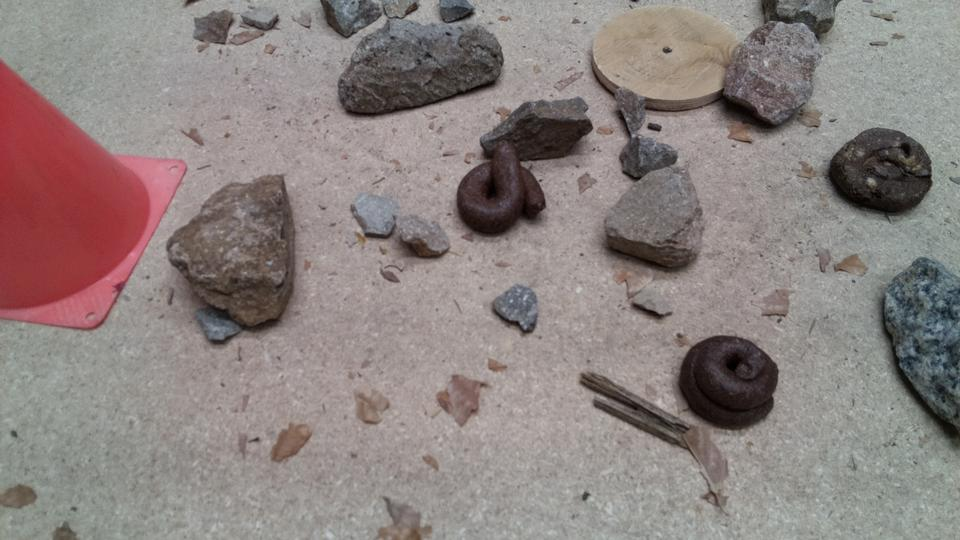poop: (677, 335, 783, 431), (829, 127, 933, 216), (455, 139, 546, 234)
